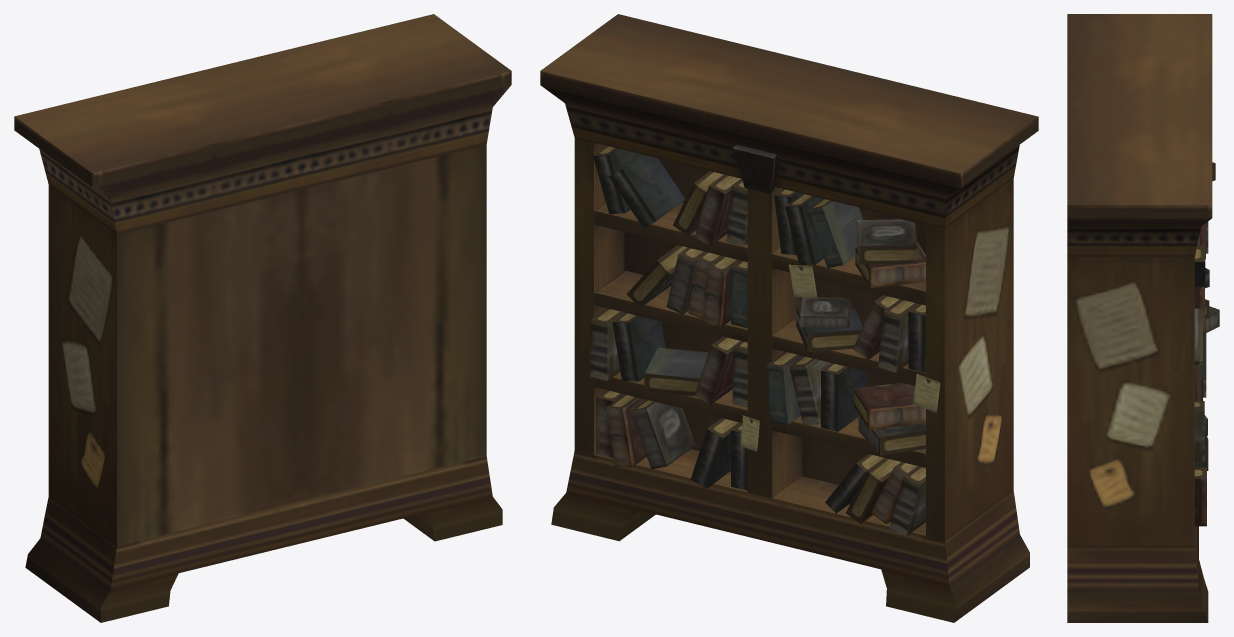
Rendered from DN_1_4_shujia01.FBX.
3 renders of one model, left to right at view 1: azimuth 30°, elevation 25°; view 2: azimuth 150°, elevation 25°; view 3: azimuth 270°, elevation 25°, orthographic. The views are drawn at different scales.
Visible parts, largest first — view 1: DN_1_4_shujia01; view 2: DN_1_4_shujia01; view 3: DN_1_4_shujia01.
Boxes of the visible parts, <box> form: DN_1_4_shujia01: <box>14,14,511,622</box>; DN_1_4_shujia01: <box>540,14,1038,622</box>; DN_1_4_shujia01: <box>1067,14,1219,622</box>.
Size of the model in its own units: 292 by 301 by 98.39.
